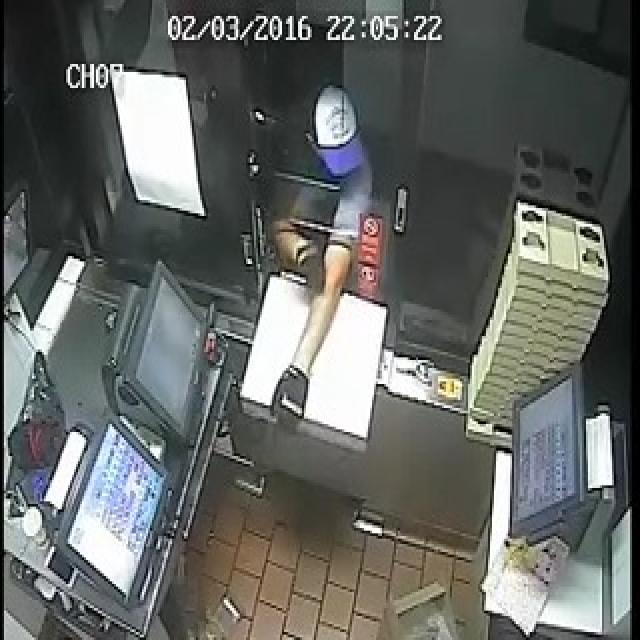thief: (312, 56, 396, 228)
